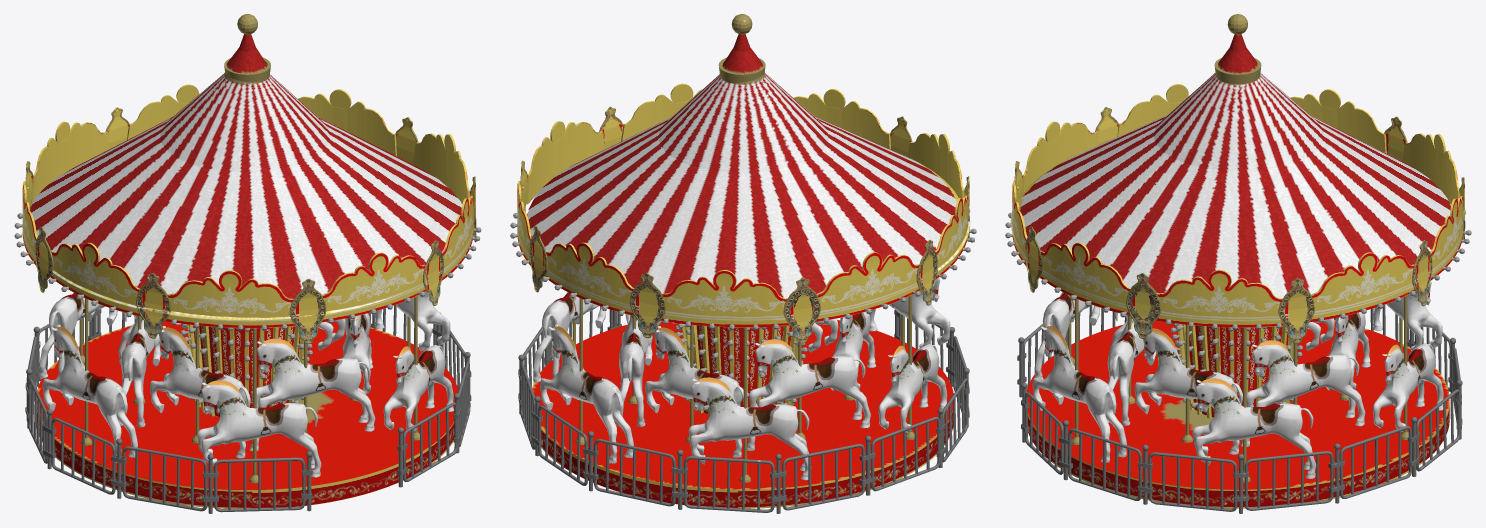
The model's file is MerryGoRound_LOD0.fbx.
The picture shows the model from 3 angles, left to right: view 1: azimuth 30°, elevation 25°; view 2: azimuth 150°, elevation 25°; view 3: azimuth 270°, elevation 25°; orthographic projection.
Visible parts, largest first — view 1: MerryGoRound_Base, MerryGoRound_Fence, Horse8, Horse3, Horse11, Horse7, Horse9, Horse12, MerryGoRound_Lights, Horse2, Horse10, Horse4; view 2: MerryGoRound_Base, MerryGoRound_Fence, Horse2, Horse12, Horse6, Horse1, Horse11, Horse5, MerryGoRound_Lights, Horse10, Horse8, Horse7 (+1 smaller); view 3: MerryGoRound_Base, MerryGoRound_Fence, Horse10, Horse5, Horse9, Horse4, Horse6, MerryGoRound_Lights, Horse3, Horse1, Horse2, Horse8.
Part boxes in pixels (left/top/right/bottom): MerryGoRound_Base: left=22, top=14, right=476, bottom=508; MerryGoRound_Fence: left=25, top=305, right=471, bottom=513; Horse8: left=197, top=380, right=321, bottom=477; Horse3: left=251, top=338, right=375, bottom=431; Horse11: left=42, top=324, right=137, bottom=462; Horse7: left=150, top=326, right=259, bottom=458; Horse9: left=383, top=345, right=454, bottom=433; Horse12: left=118, top=316, right=160, bottom=427; MerryGoRound_Lights: left=14, top=213, right=481, bottom=413; Horse2: left=39, top=293, right=117, bottom=378; Horse10: left=375, top=291, right=450, bottom=351; Horse4: left=342, top=313, right=373, bottom=393; MerryGoRound_Base: left=517, top=14, right=970, bottom=508; MerryGoRound_Fence: left=518, top=309, right=969, bottom=513; Horse2: left=688, top=377, right=811, bottom=480; Horse12: left=749, top=339, right=870, bottom=428; Horse6: left=540, top=324, right=633, bottom=463; Horse1: left=645, top=326, right=755, bottom=457; Horse11: left=878, top=344, right=947, bottom=432; Horse5: left=615, top=315, right=652, bottom=426; MerryGoRound_Lights: left=510, top=209, right=976, bottom=410; Horse10: left=533, top=292, right=605, bottom=382; Horse8: left=869, top=277, right=950, bottom=347; Horse7: left=831, top=311, right=876, bottom=390; MerryGoRound_Base: left=1010, top=14, right=1465, bottom=508; MerryGoRound_Fence: left=1017, top=305, right=1462, bottom=513; Horse10: left=1192, top=378, right=1316, bottom=478; Horse5: left=1246, top=340, right=1365, bottom=426; Horse9: left=1032, top=324, right=1126, bottom=462; Horse4: left=1134, top=328, right=1249, bottom=454; Horse6: left=1373, top=343, right=1443, bottom=431; MerryGoRound_Lights: left=1005, top=210, right=1471, bottom=412; Horse3: left=1107, top=318, right=1156, bottom=425; Horse1: left=1326, top=312, right=1370, bottom=390; Horse2: left=1364, top=281, right=1442, bottom=350; Horse8: left=1035, top=292, right=1099, bottom=379.
Bounding box in the file's own units: 658 × 631 × 660.
Materials: 2 (1 with a texture image).
